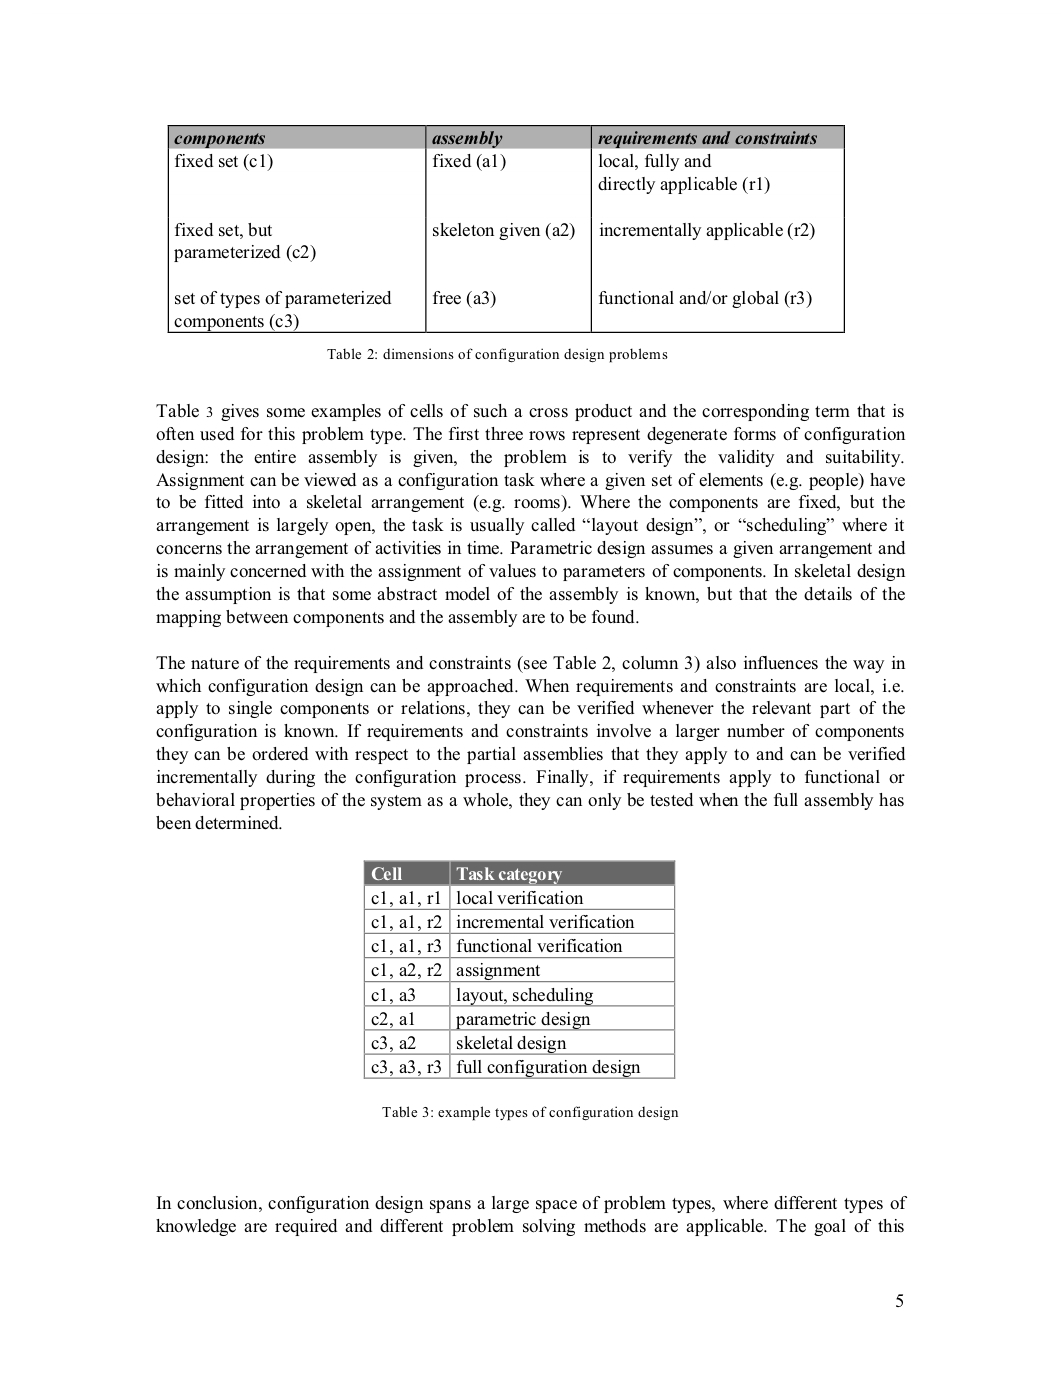Table: (167, 124, 844, 333), (363, 859, 675, 1079)
